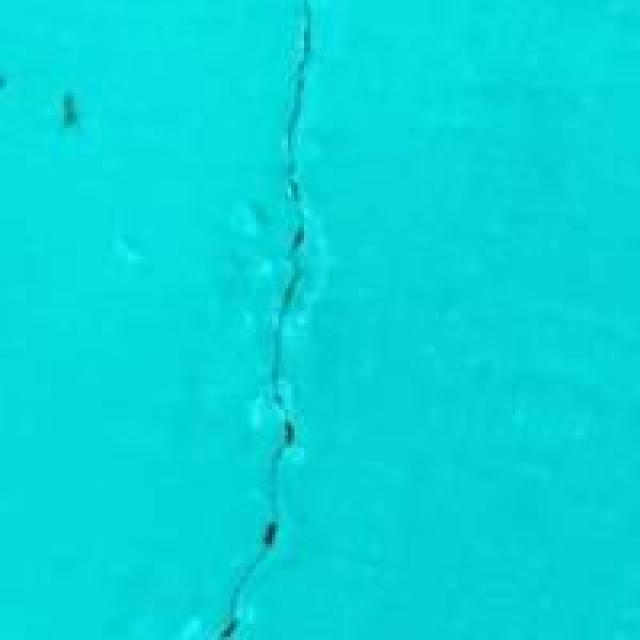Crack: (215, 0, 362, 637)
